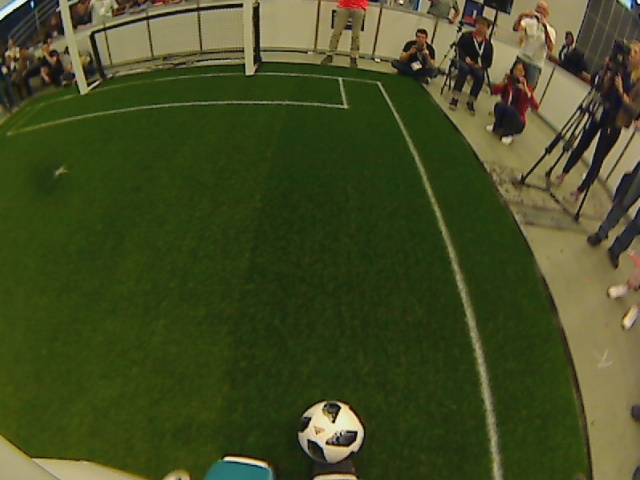ball: (295, 398, 365, 464)
